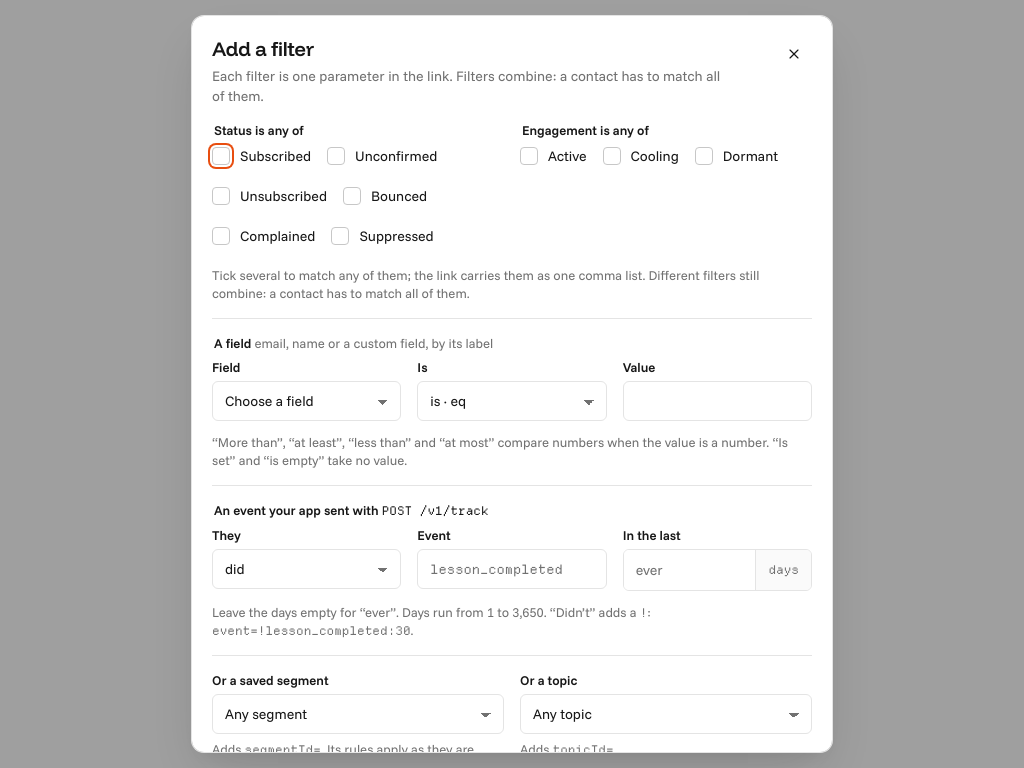
it: FilterSheet › holds Add filter while the days are out of range
This screenshot has width=1024, height=768.
Type "x" into the field labelled "Event". click: (512, 569)
box: 417,549 -> 607,589
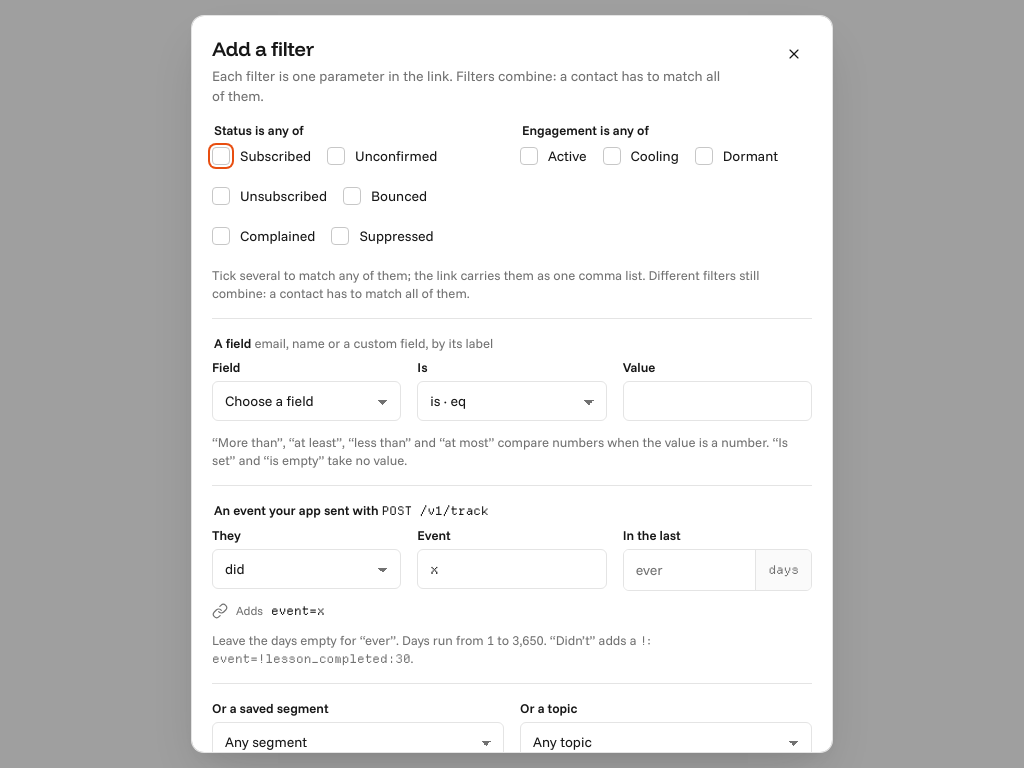
Type "9999" into the field labelled "In the last". click: (690, 570)
box: 624,550 -> 756,590
(page scrolled)
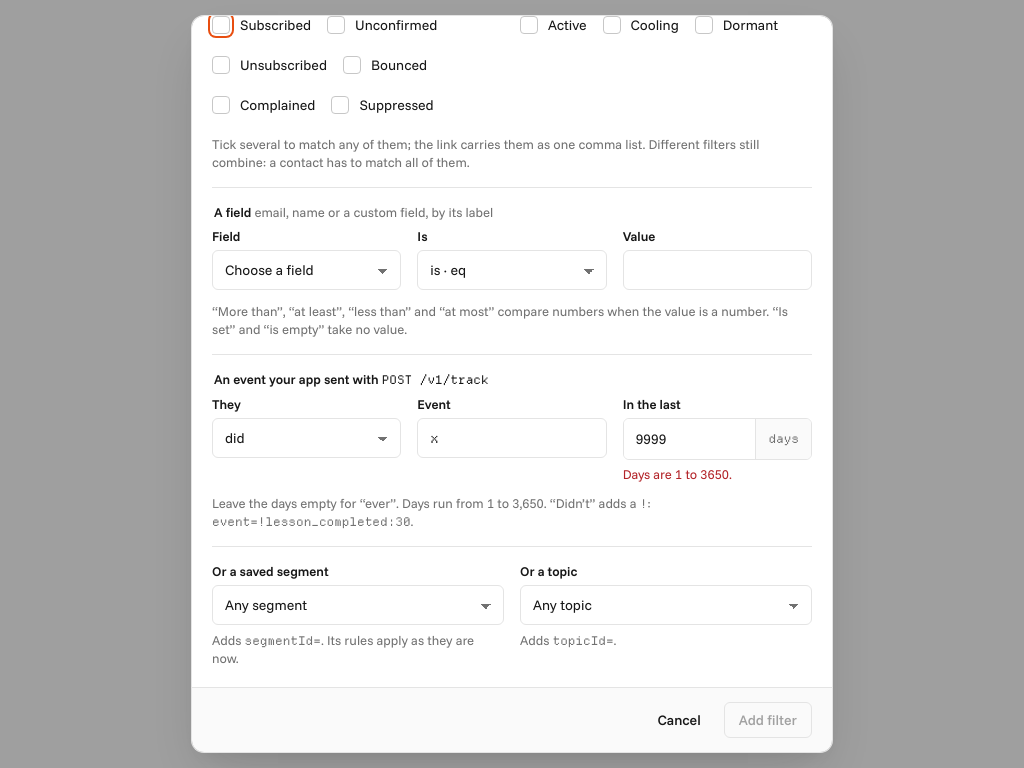
Now the text "Days are 1 to 3650." is shown, box 623,466 -> 732,482
Now the button "Add filter" is disabled, box 724,702 -> 812,738
